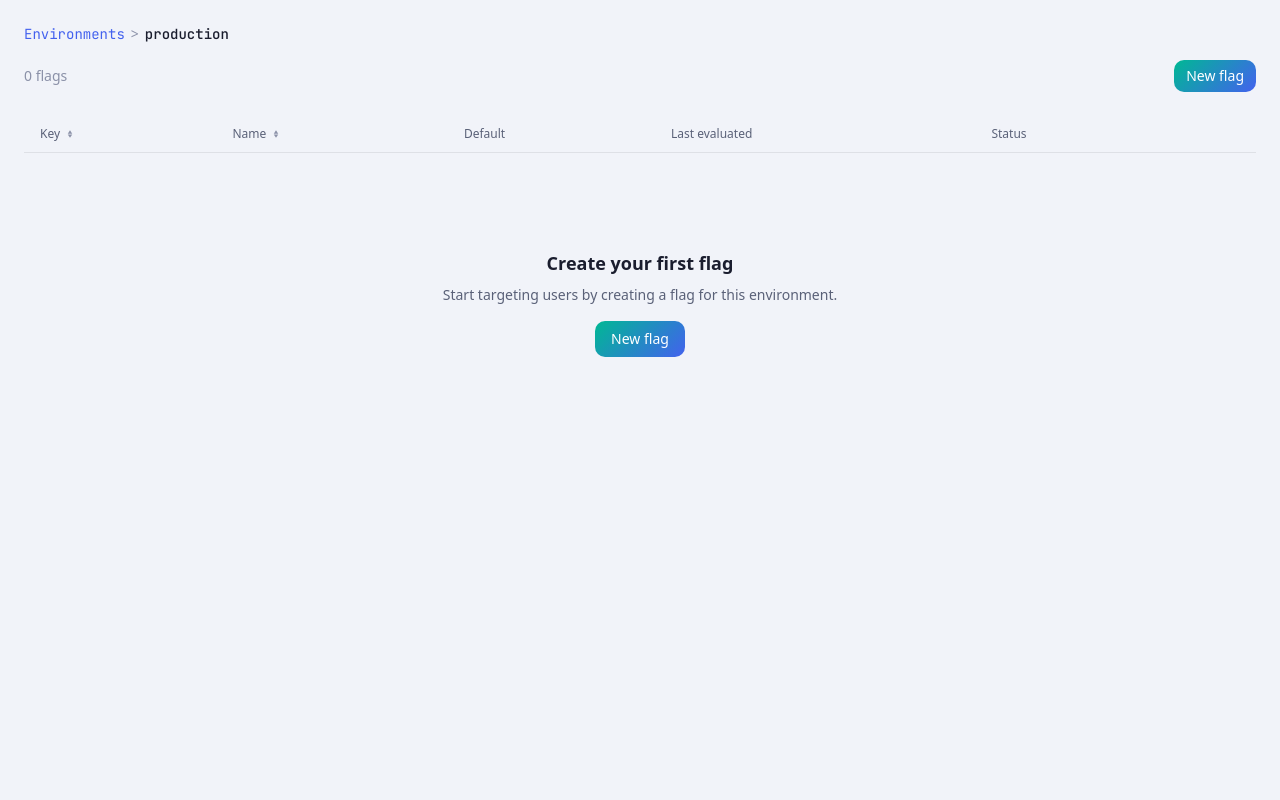
Scenario: CreateFlagModal — post-create success state › shows flag key in success state after creation
The image size is (1280, 800).
expect the heading "Create your first flag" is shown: met, box [547,251,733,275]
Note: Click the header "New flag" button (first occurrence)
Click the button "New flag" in the row of "0 flags" at (1215, 76), box [1174,60,1256,92]
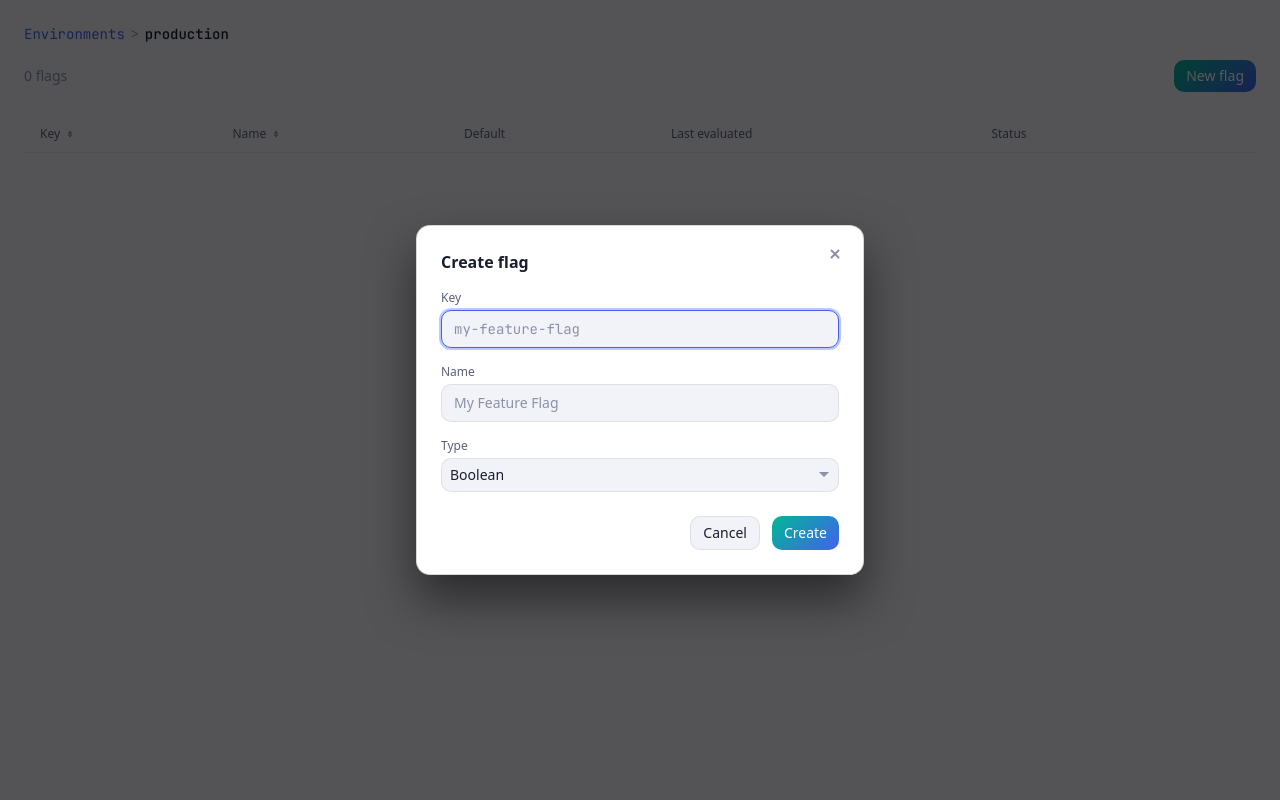
Note: Fill in flag key
Type "my-new-flag" into the field with placeholder "my-feature-flag" at (640, 329), box [441,310,839,348]
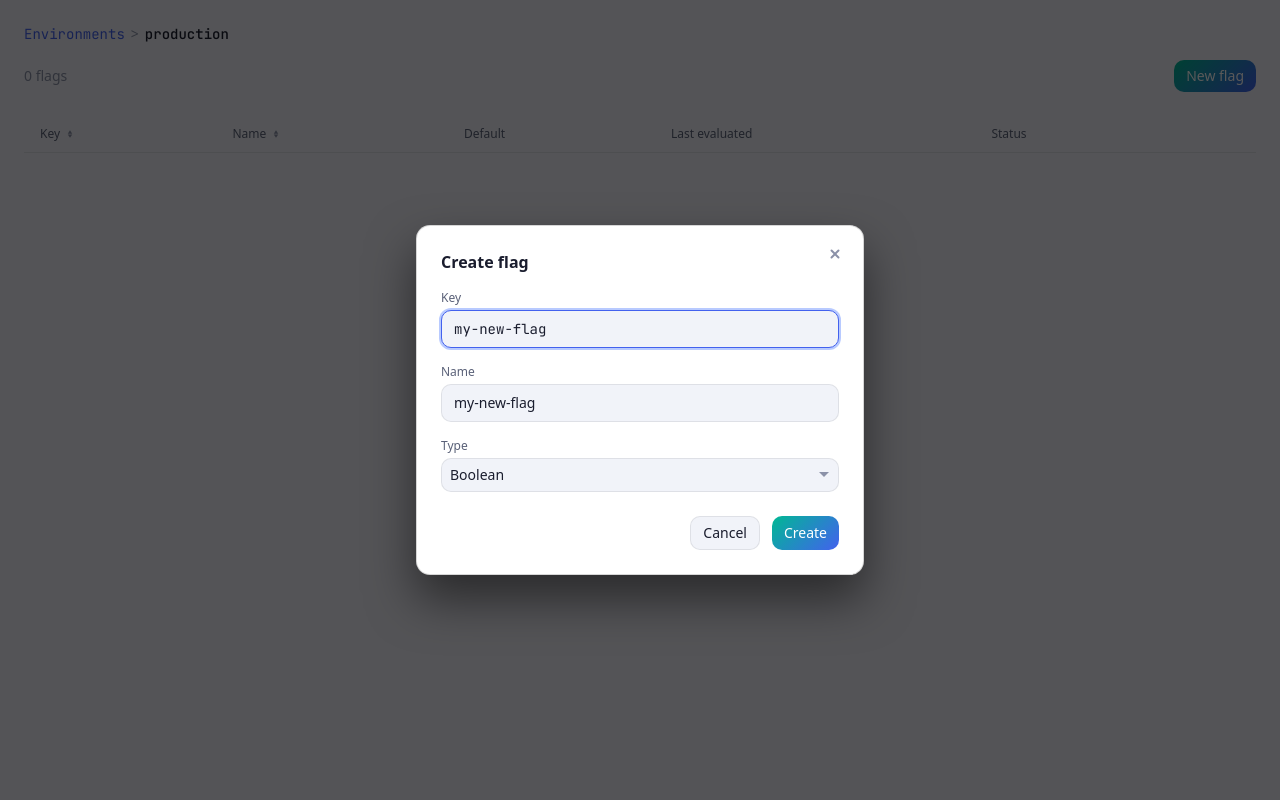
Click the button "Create" at (805, 533), box [772,516,839,550]
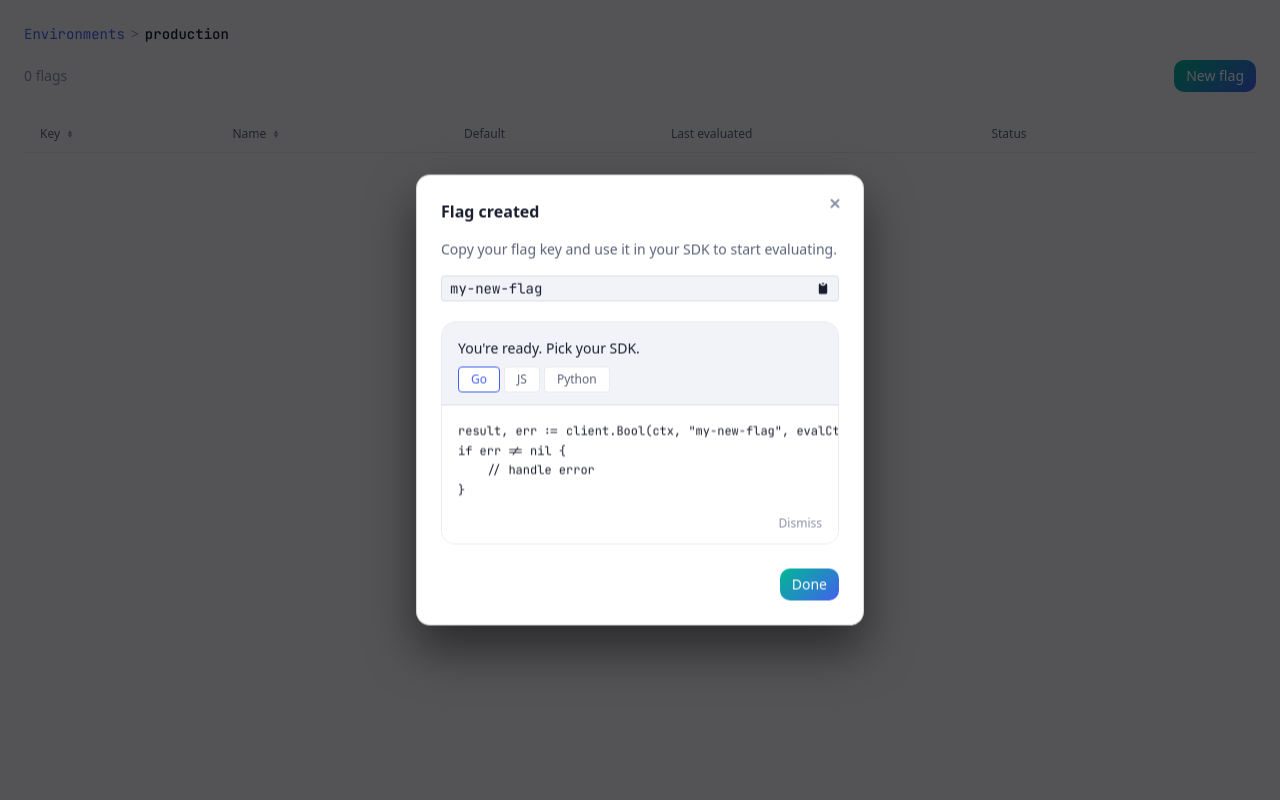
expect the heading "Flag created" is shown: met, box [441,200,539,222]
expect the text "my-new-flag" is shown: met, box [450,278,542,298]
